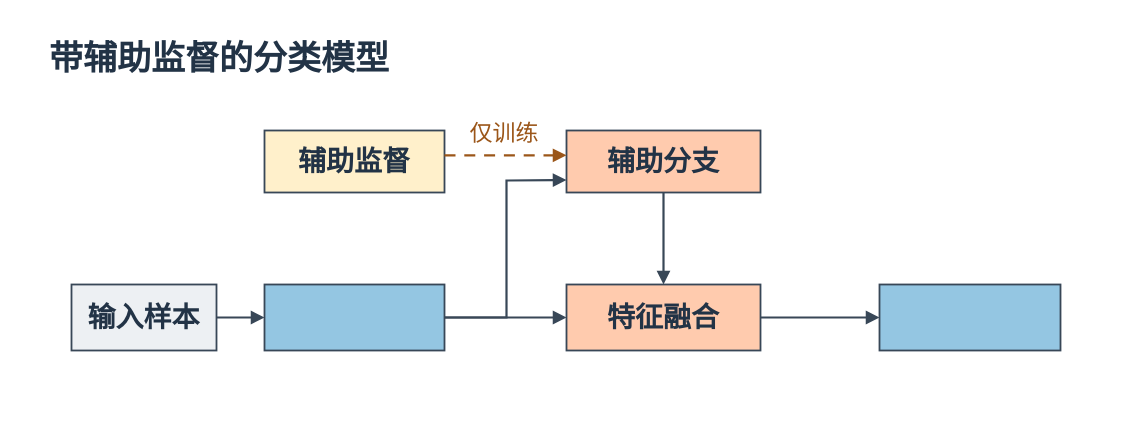
Image size: 1134x433. Some labels were removed from this diagram. The box of each missing label's shape, as (x1, y1, x2, y2) in pixels:
分类输出: (878, 283, 1061, 351)
特征编码: (263, 283, 445, 351)
